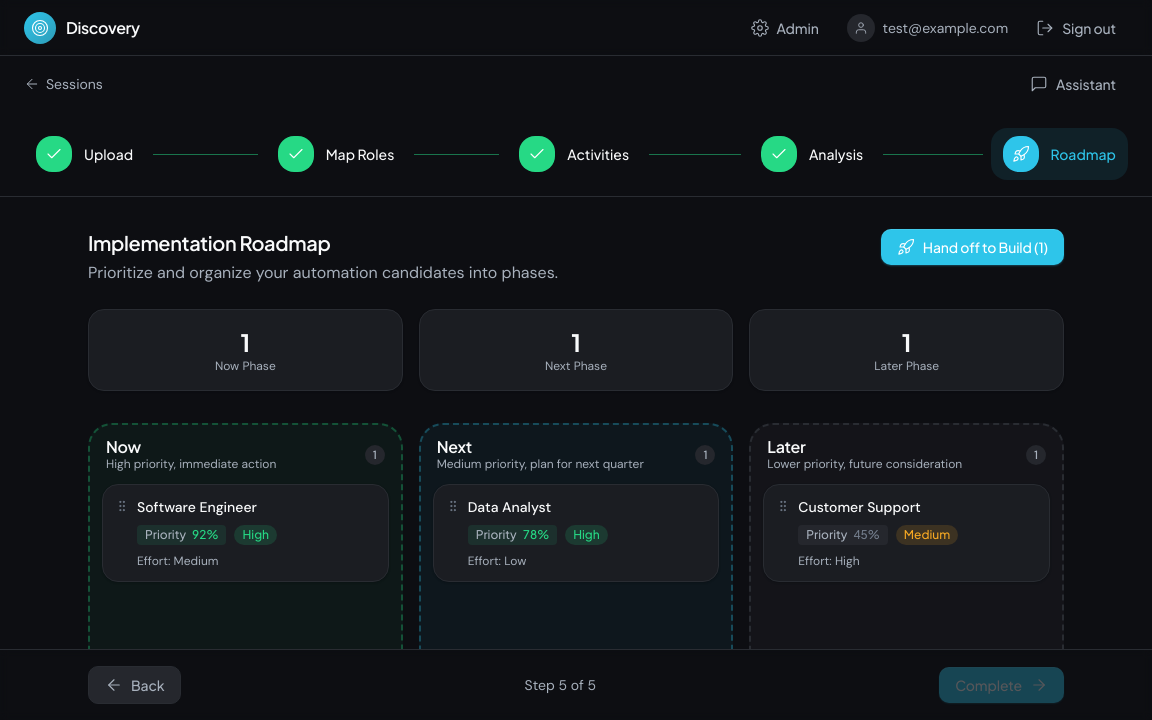
it: RoadmapStep › opens handoff modal when button clicked
Click the button "Hand off to Build (1)" at (972, 247), box x1=881 y1=229 x2=1064 y2=265
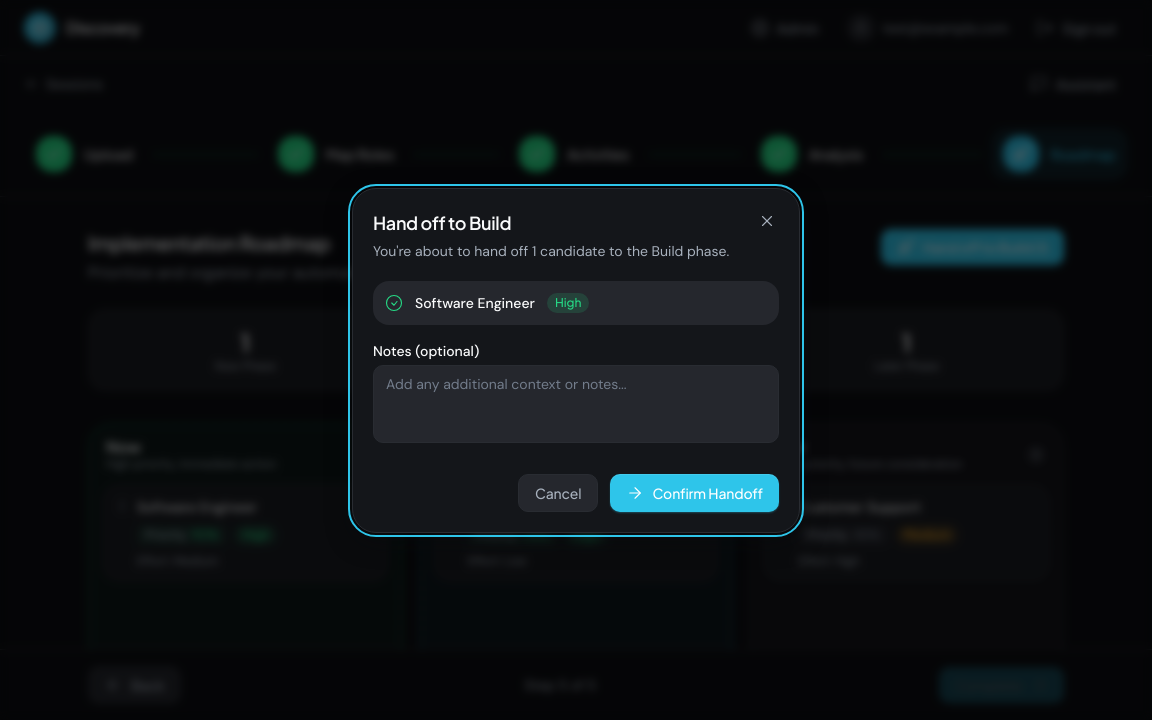
Expected: the button "Confirm Handoff" is shown, x1=610 y1=474 x2=779 y2=512
